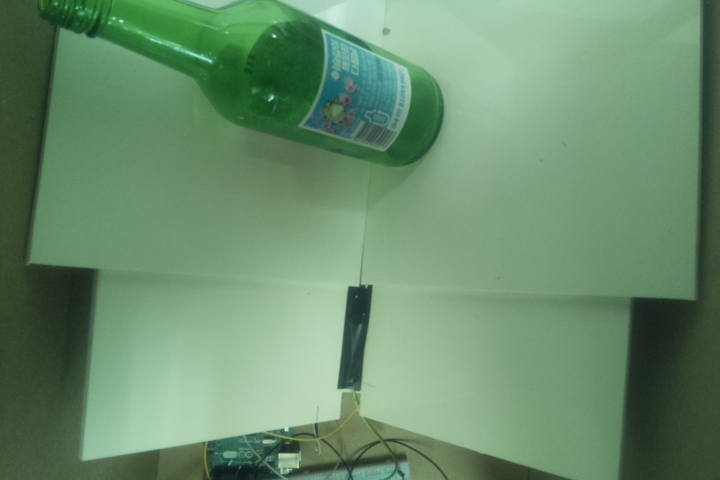soju: (33, 1, 445, 169)
